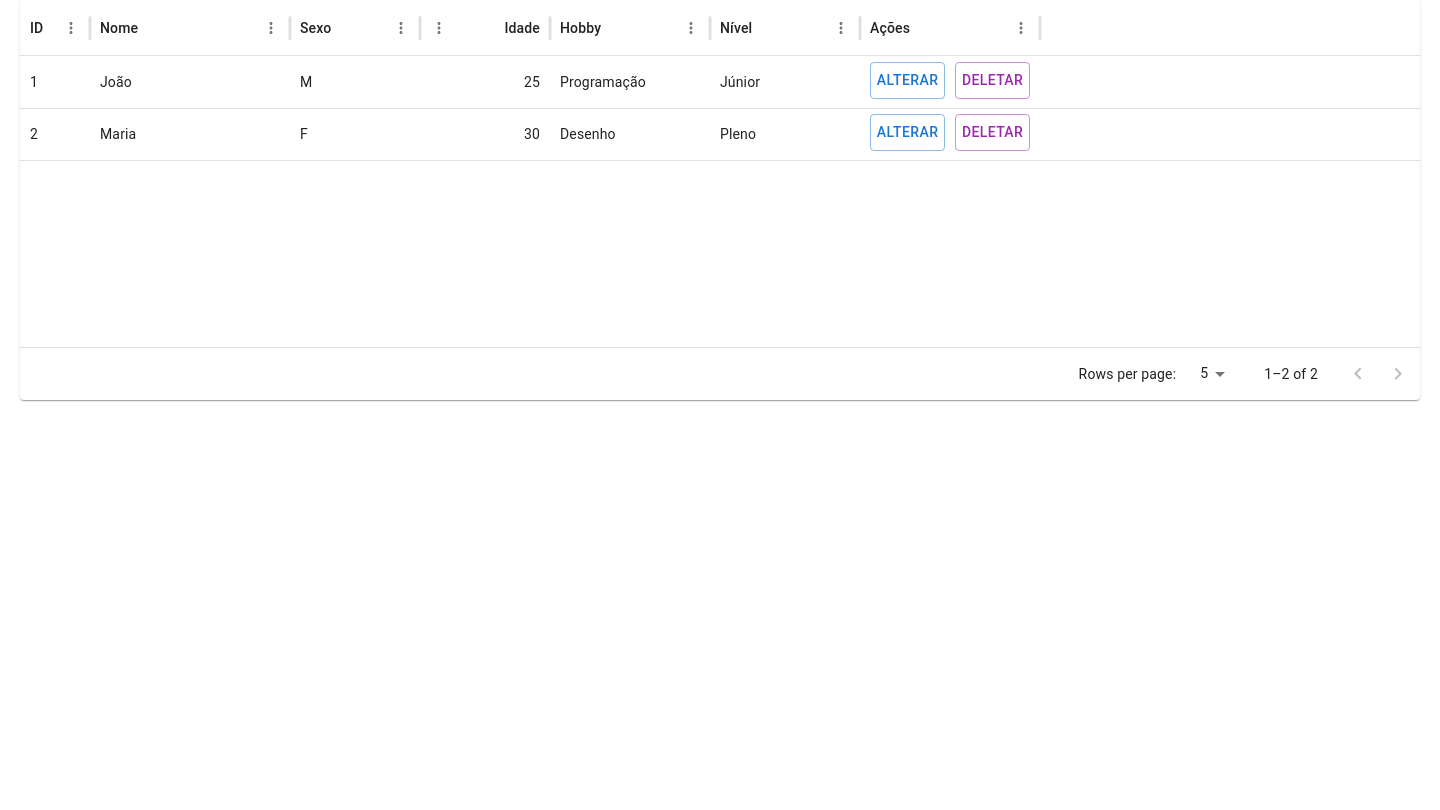
Scenario: clique no botão Deletar abre o modal de confirmação
Step 1. Click the button "Deletar" in the row of "João" → (993, 80), box x1=955 y1=62 x2=1030 y2=98
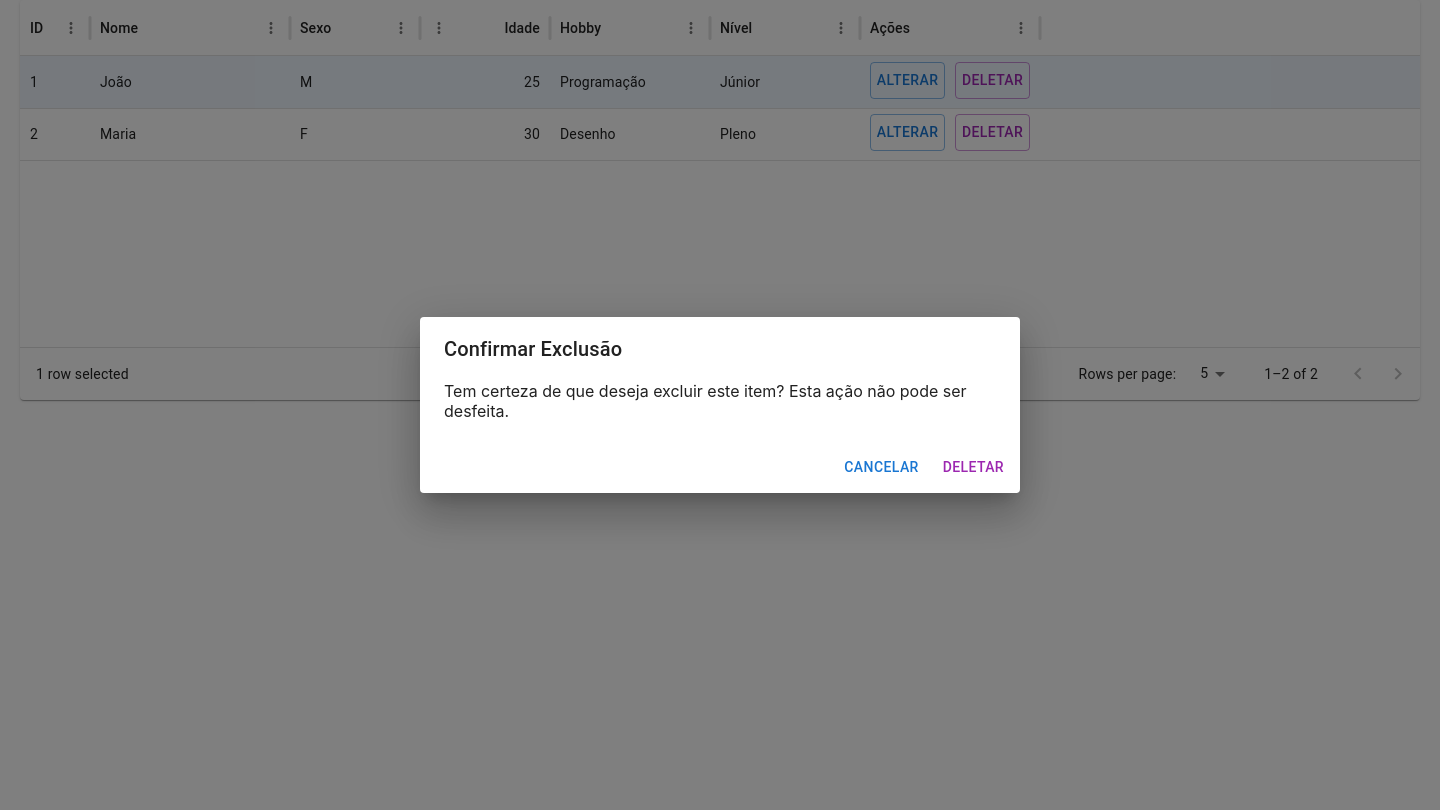
Expected: the heading "Confirmar Exclusão" is shown, x1=444 y1=337 x2=622 y2=361
